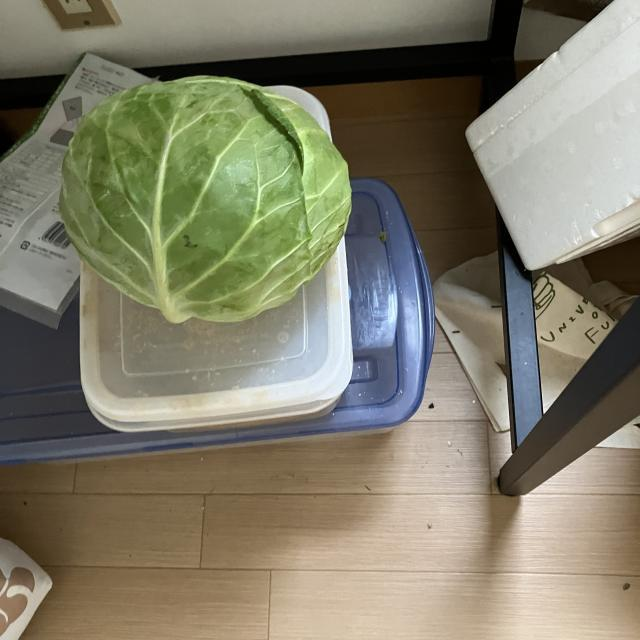cabbage: (53, 76, 356, 331)
